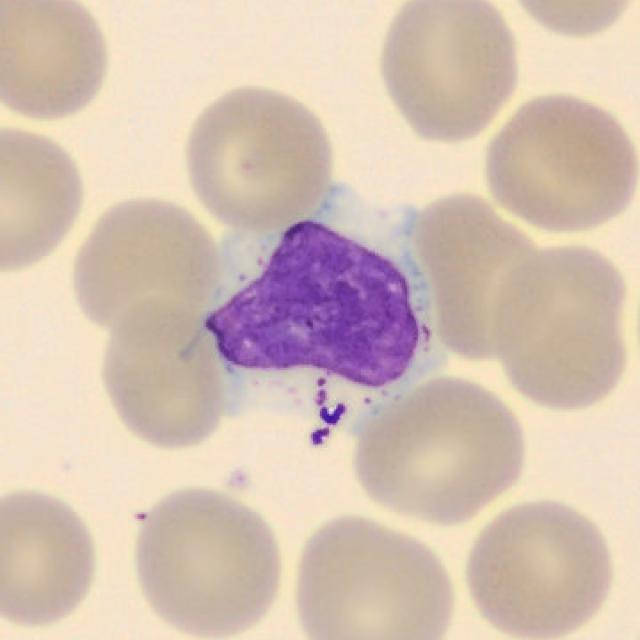Linfocito atipico: (201, 187, 430, 444)
